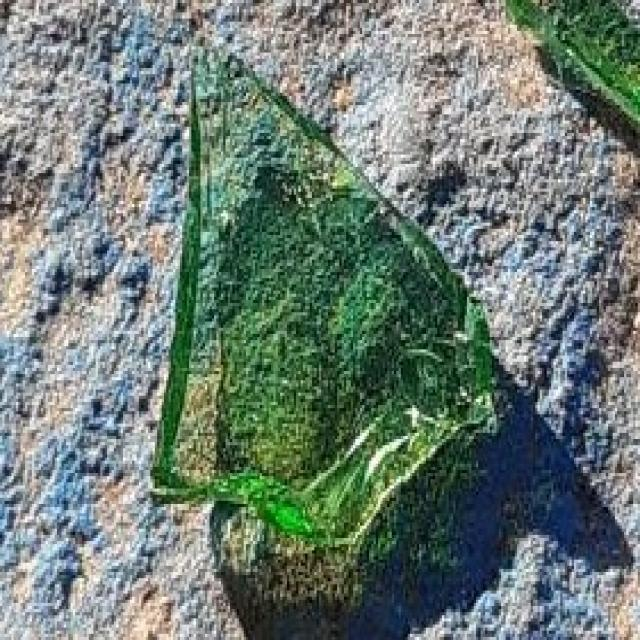Dry: (157, 33, 500, 549)
